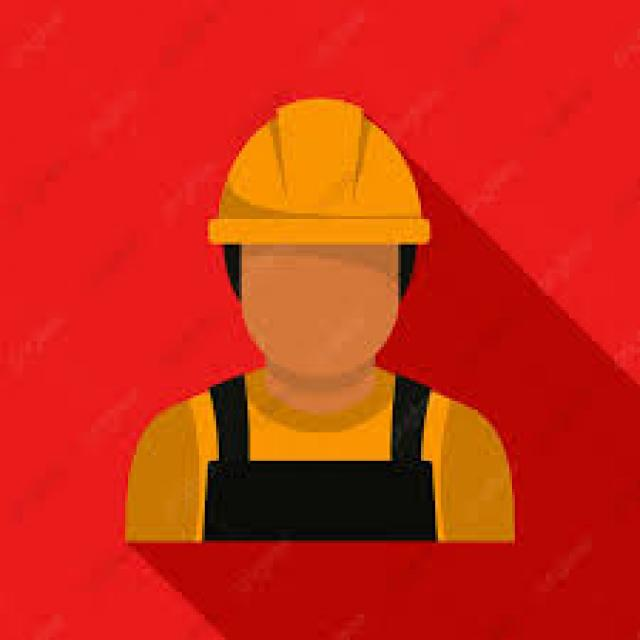Safety-Helmet: (196, 91, 441, 259)
